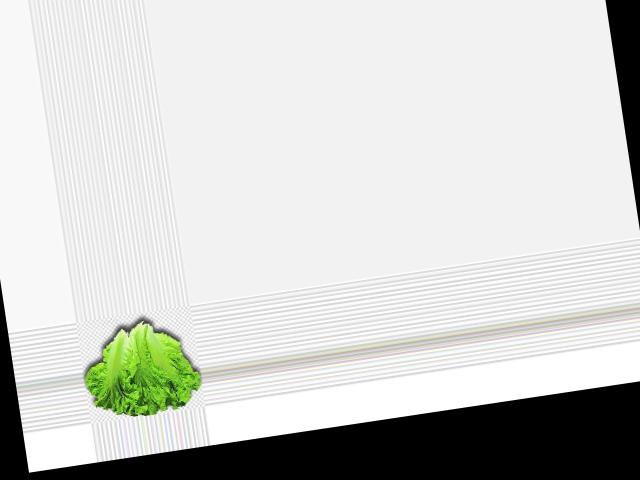lettuce: (74, 312, 202, 423)
